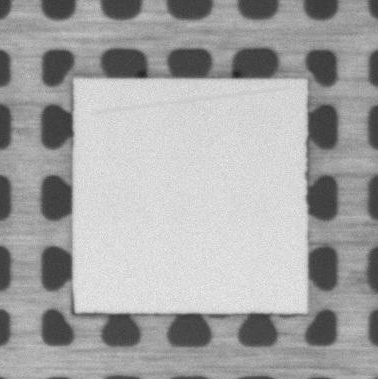DIE_CRACK: (96, 88, 288, 112)
